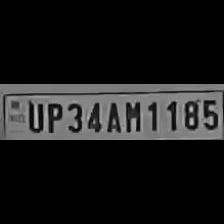1: (160, 98, 178, 132), (144, 98, 160, 132)
3: (64, 100, 82, 132)
4: (84, 98, 102, 132)
5: (200, 96, 220, 130)
8: (179, 97, 199, 131)
A: (102, 99, 120, 133)
M: (121, 97, 143, 132)
P: (44, 100, 64, 132)
U: (24, 100, 44, 132)
